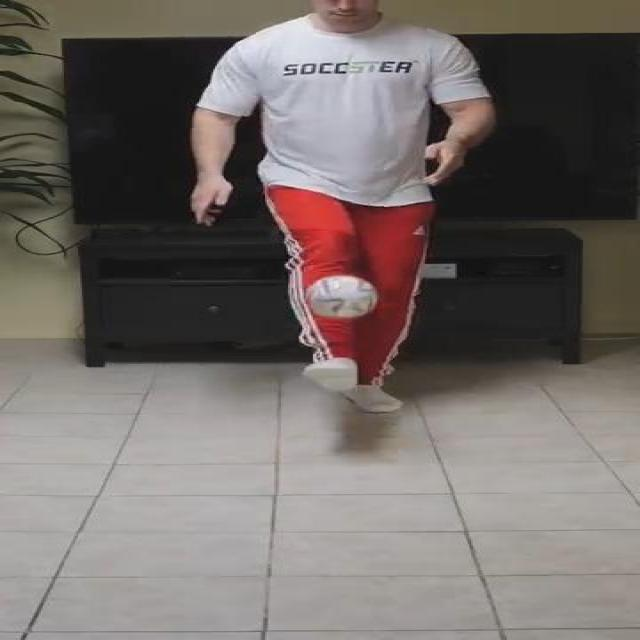Soccer Ball: (304, 274, 380, 321)
